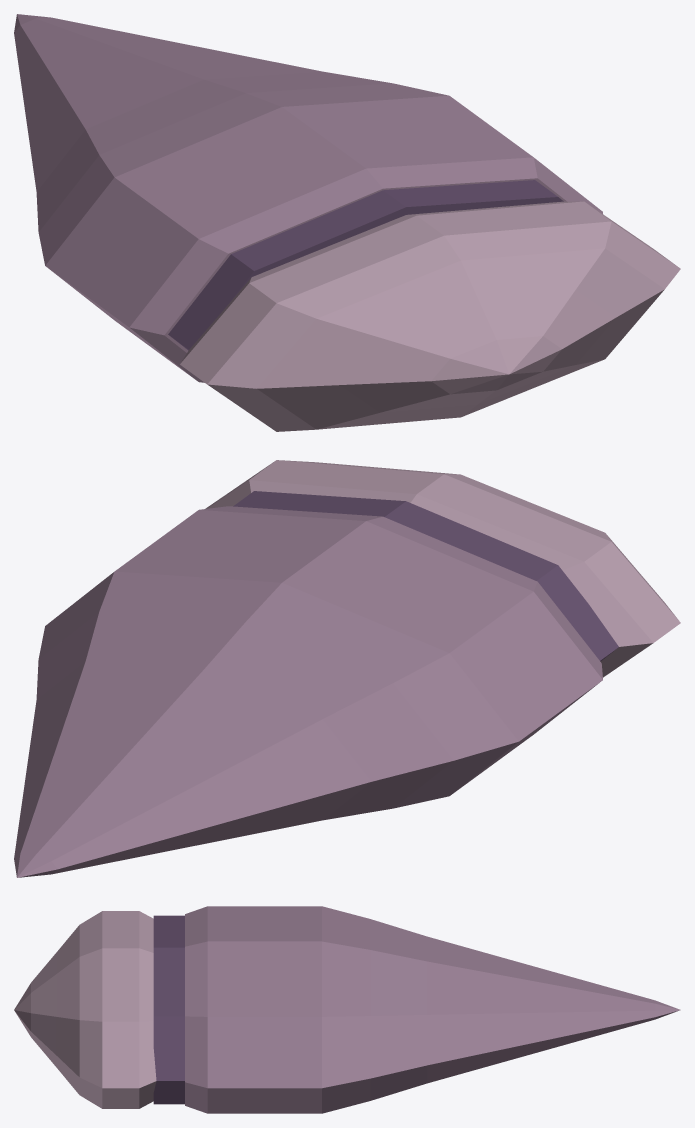
The model's file is newshv-10.glb.
3 views of the same model, one above another, from view 1: azimuth 30°, elevation 25°; view 2: azimuth 150°, elevation 25°; view 3: azimuth 270°, elevation 25° (orthographic). The views are drawn at different scales.
Parts seen in each view (by area): view 1: newshv-10; view 2: newshv-10; view 3: newshv-10.
Boxes of the visible parts, bbox=[...] form: newshv-10: bbox=[14, 14, 680, 431]; newshv-10: bbox=[14, 460, 680, 877]; newshv-10: bbox=[14, 906, 680, 1113].
Size of the model in its own units: 1.08 by 0.442 by 1.95.
